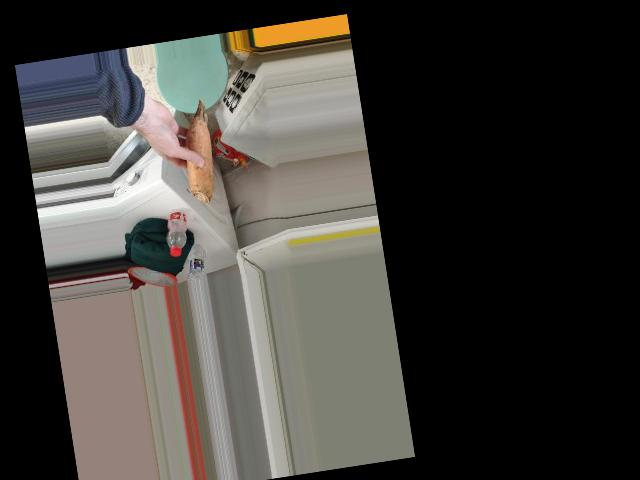sweet_potato: (169, 97, 222, 209)
